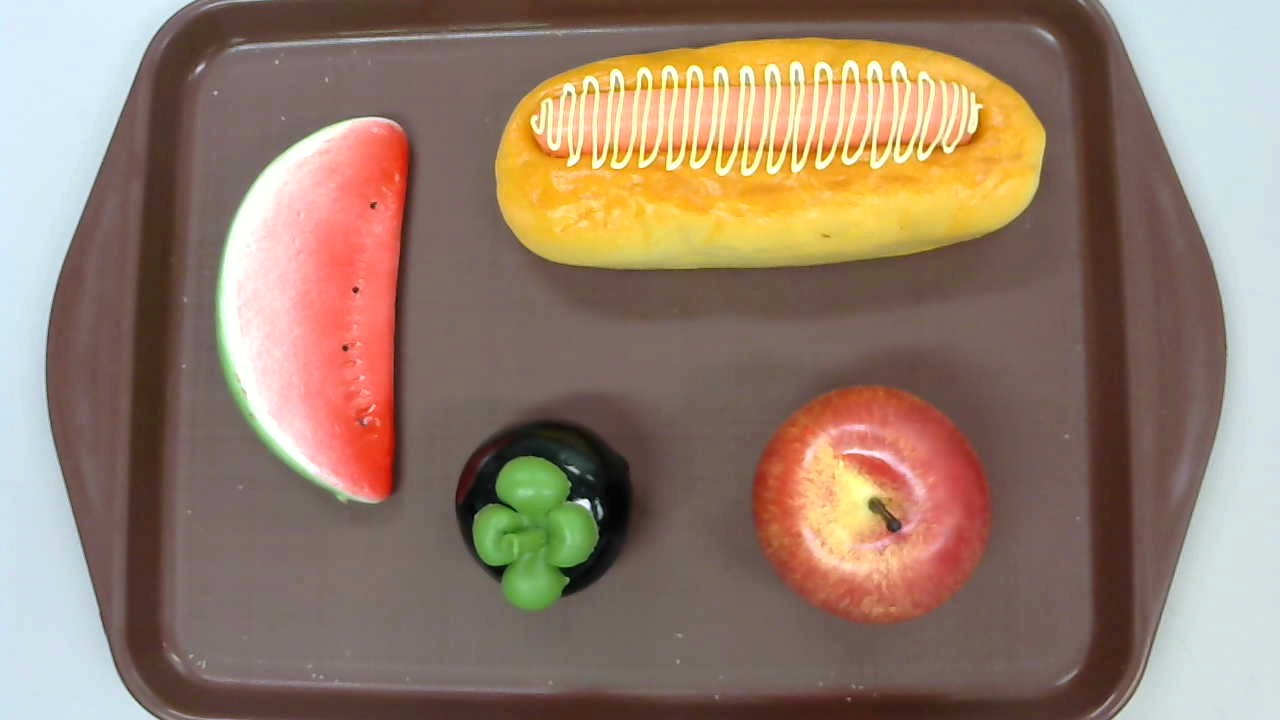hot dog: (495, 38, 1047, 275)
mangosteen: (455, 420, 634, 613)
red apple: (752, 383, 993, 623)
watermelon: (212, 117, 410, 504)
